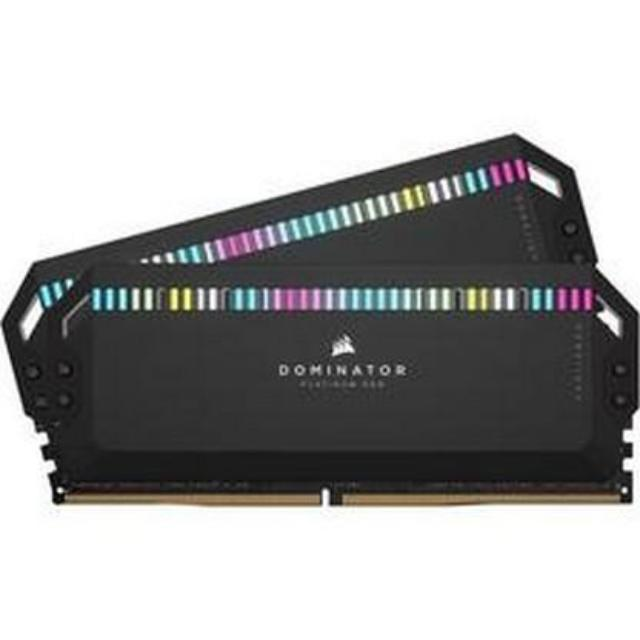RAM: (12, 116, 640, 547)
